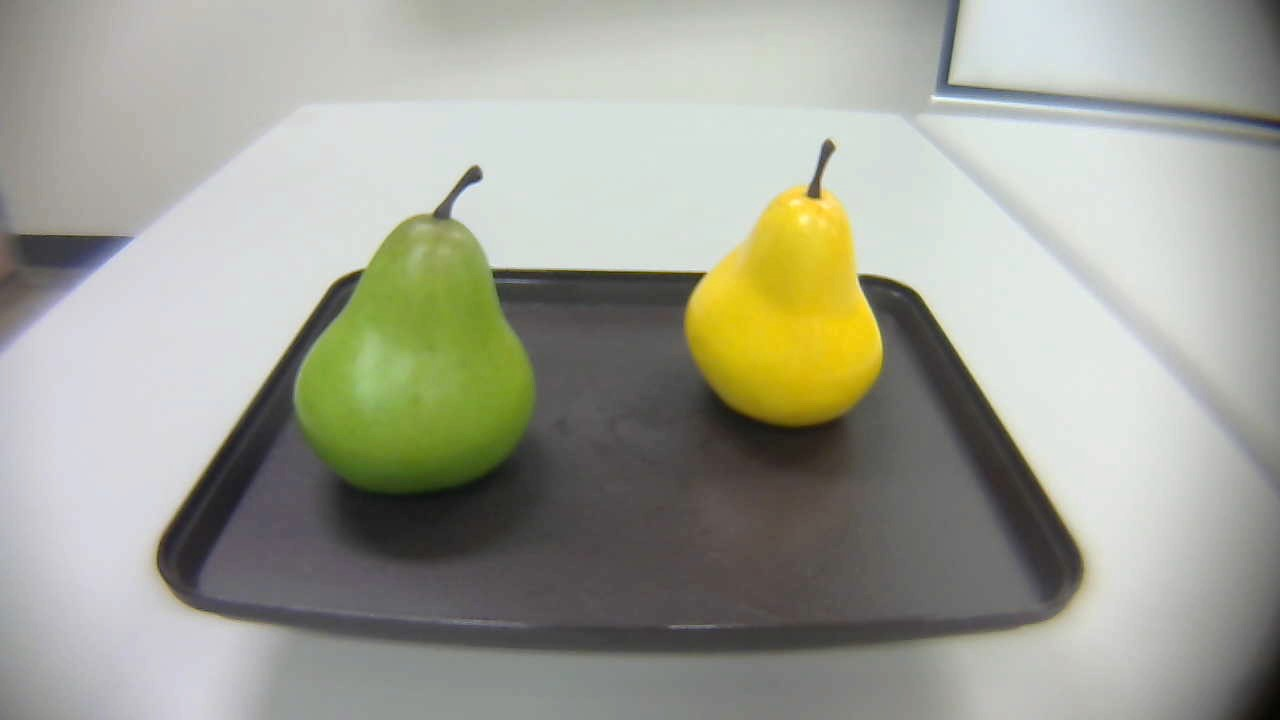green pear: (289, 159, 543, 505)
yellow pear: (683, 137, 893, 430)
